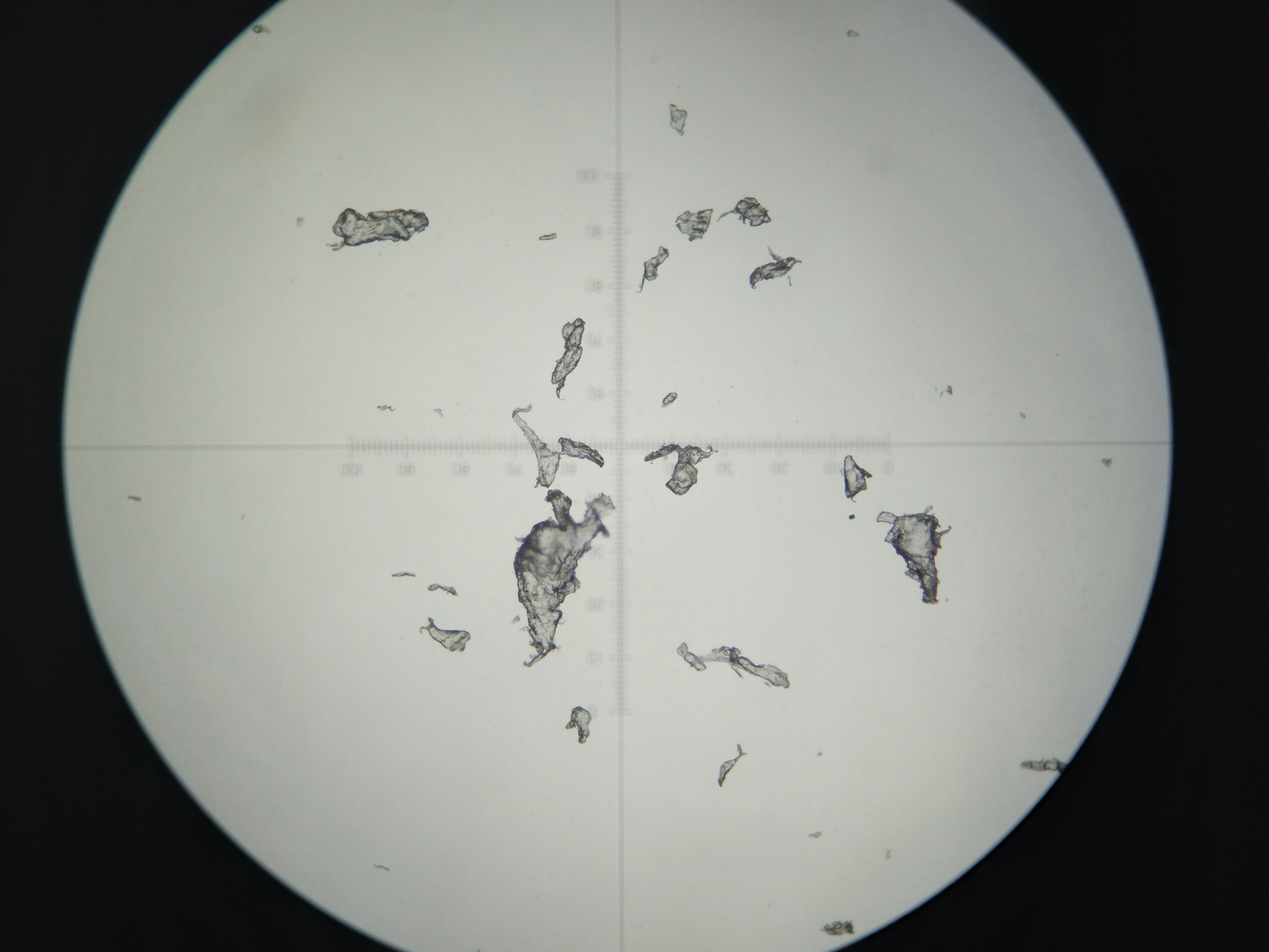microplastic: (501, 486, 614, 667), (505, 402, 611, 489), (873, 503, 953, 612), (668, 637, 798, 691), (327, 207, 433, 258), (645, 439, 721, 496), (543, 316, 586, 403), (742, 246, 815, 293), (704, 742, 763, 796), (420, 614, 480, 656), (717, 197, 782, 234), (670, 203, 717, 250), (666, 95, 697, 153), (639, 245, 674, 296), (563, 701, 596, 755), (839, 452, 872, 503), (1023, 752, 1065, 780), (425, 578, 462, 600), (390, 569, 421, 587), (537, 227, 559, 247), (656, 390, 681, 406)
